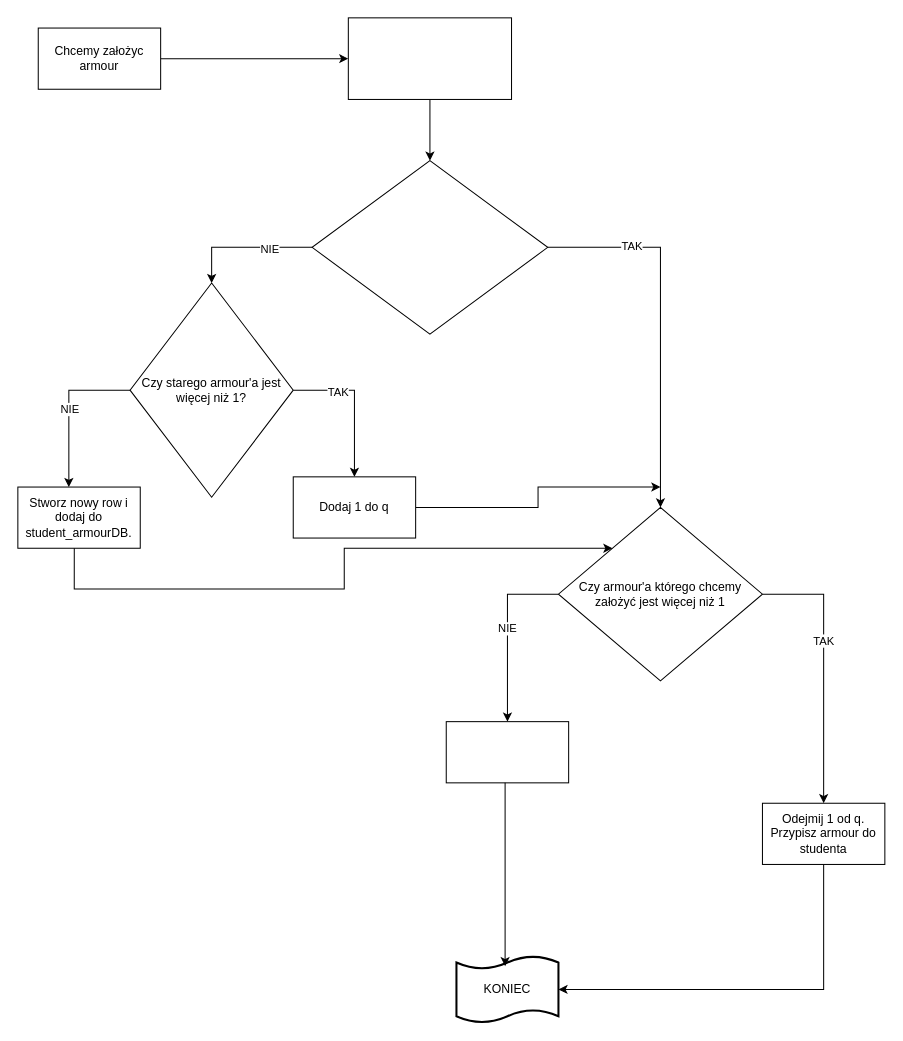
The diagram is 903 pixels wide and 1041 high, and some of its shapes have lost their labels. Here are the shapes that lost their labels. From the top down, the centre of each, then its label:
(429,58): Pomijamy to czy studentDB, armourDB, studentArmour jest nullem
(429,247): Czy ArmourId w studentDB jest puste?
(507,752): Usun armour z student_armour. Przypisz armour do studenta
